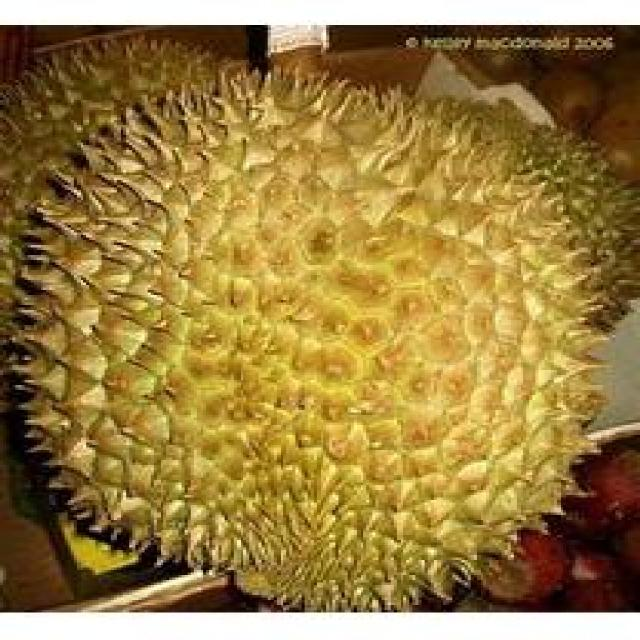fruit: (3, 238, 360, 600), (289, 252, 640, 610)
